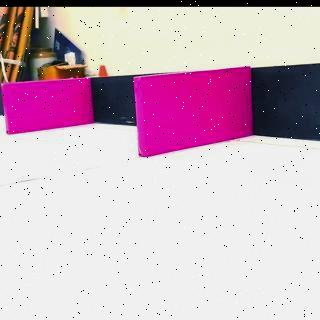xparking: (137, 77, 251, 155), (3, 77, 91, 135)
